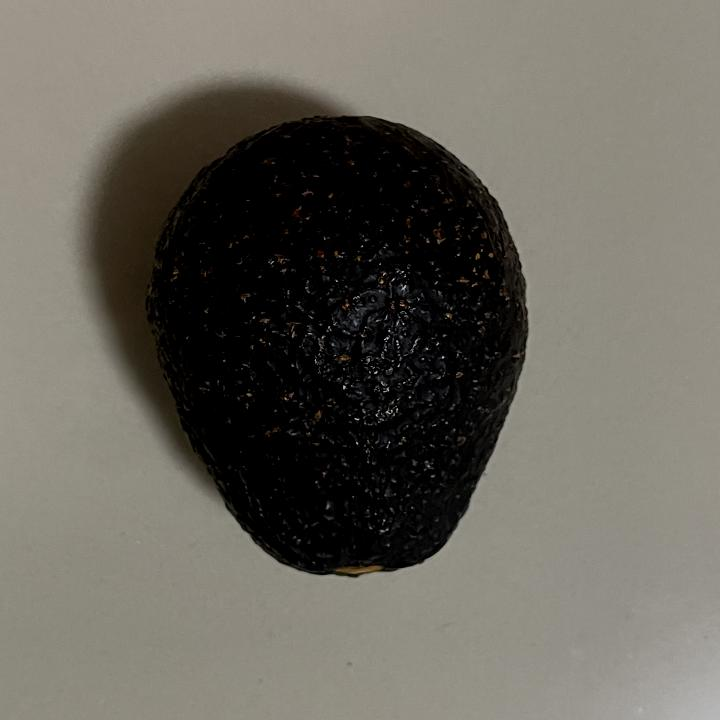Level3: (133, 109, 539, 590)
